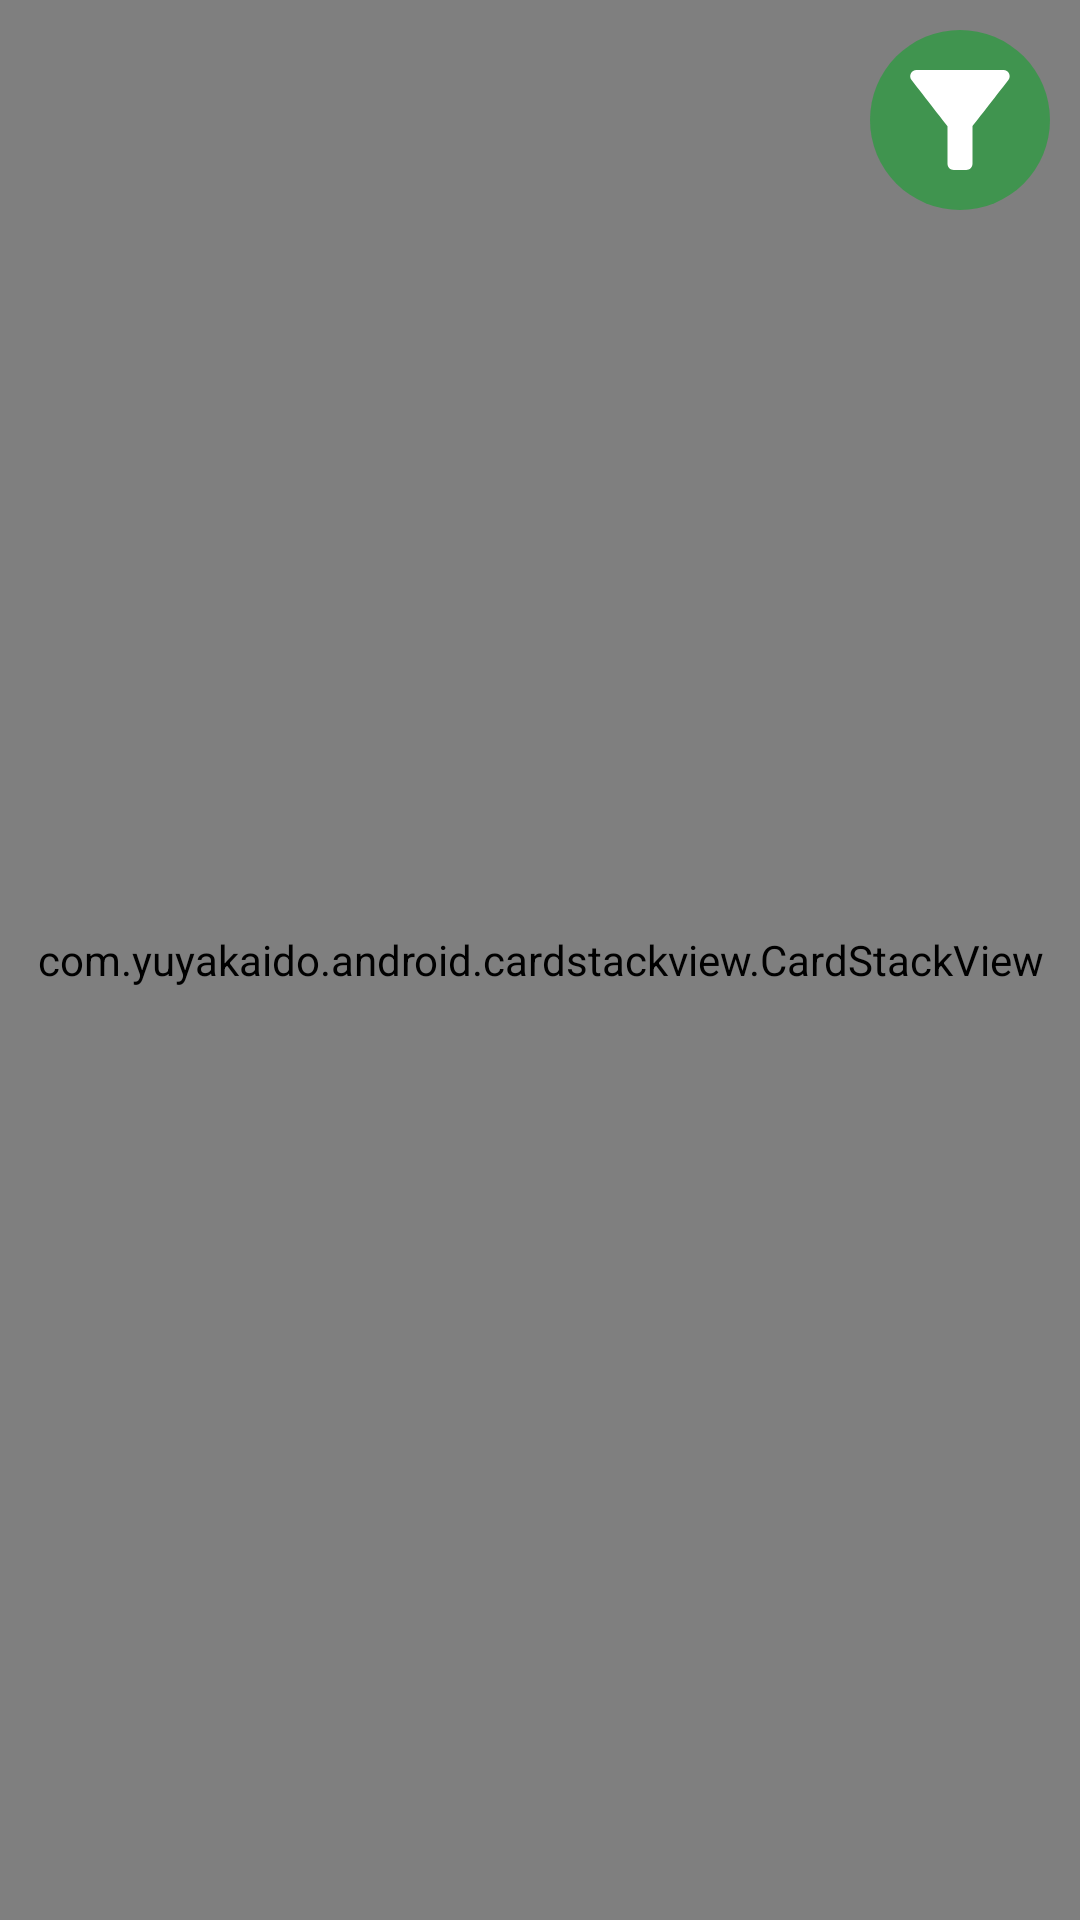

Icon bounding boxes for this 1080 x 1920 phone screenshot, format (x1, y1, x2, y2):
filter: (870, 30, 1050, 210)
